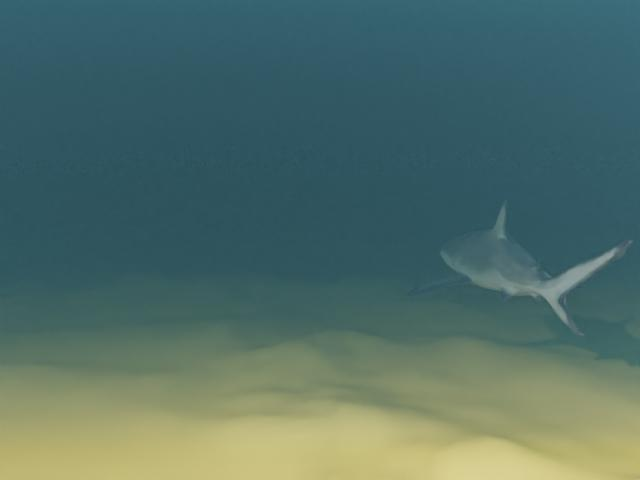Carribean Shark.001: (406, 199, 632, 336)
